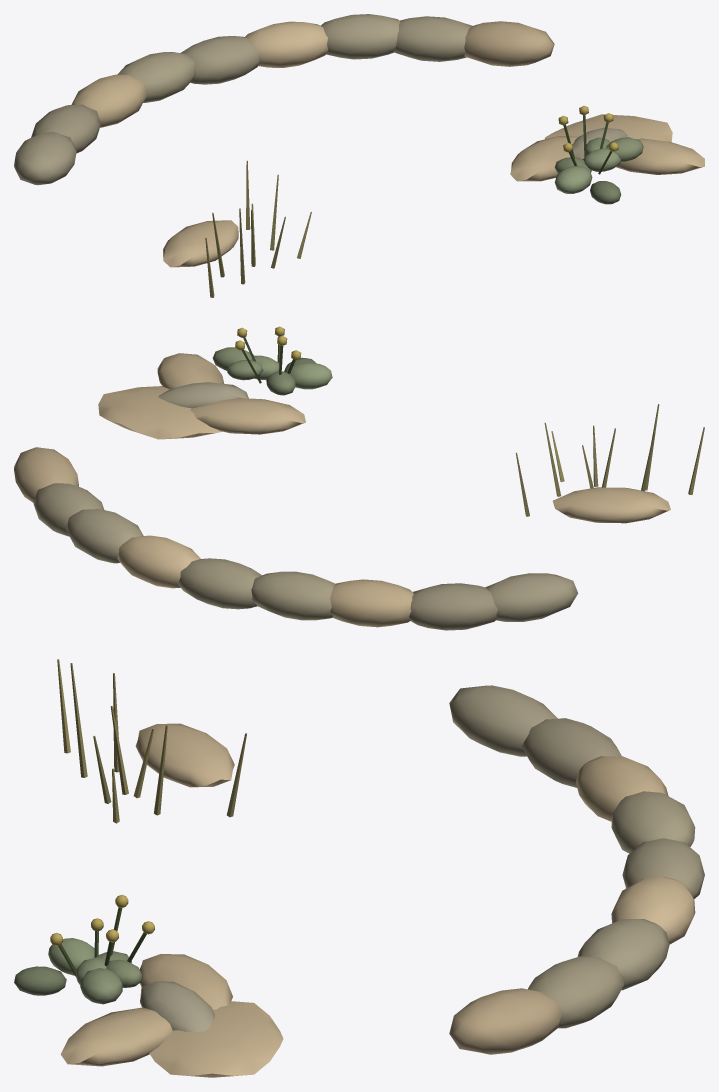
File: sandbags_c.glb
3 views of the same model, one above another, from view 1: azimuth 30°, elevation 25°; view 2: azimuth 150°, elevation 25°; view 3: azimuth 270°, elevation 25° (orthographic). The views are drawn at different scales.
Parts seen in each view (by area): view 1: Surface; view 2: Surface; view 3: Surface.
Boxes of the visible parts, <box> form: Surface: <box>14,14,704,297</box>; Surface: <box>14,326,704,630</box>; Surface: <box>14,659,704,1077</box>.
Bounding box in the file's own units: 7.7 × 1.12 × 6.2.
